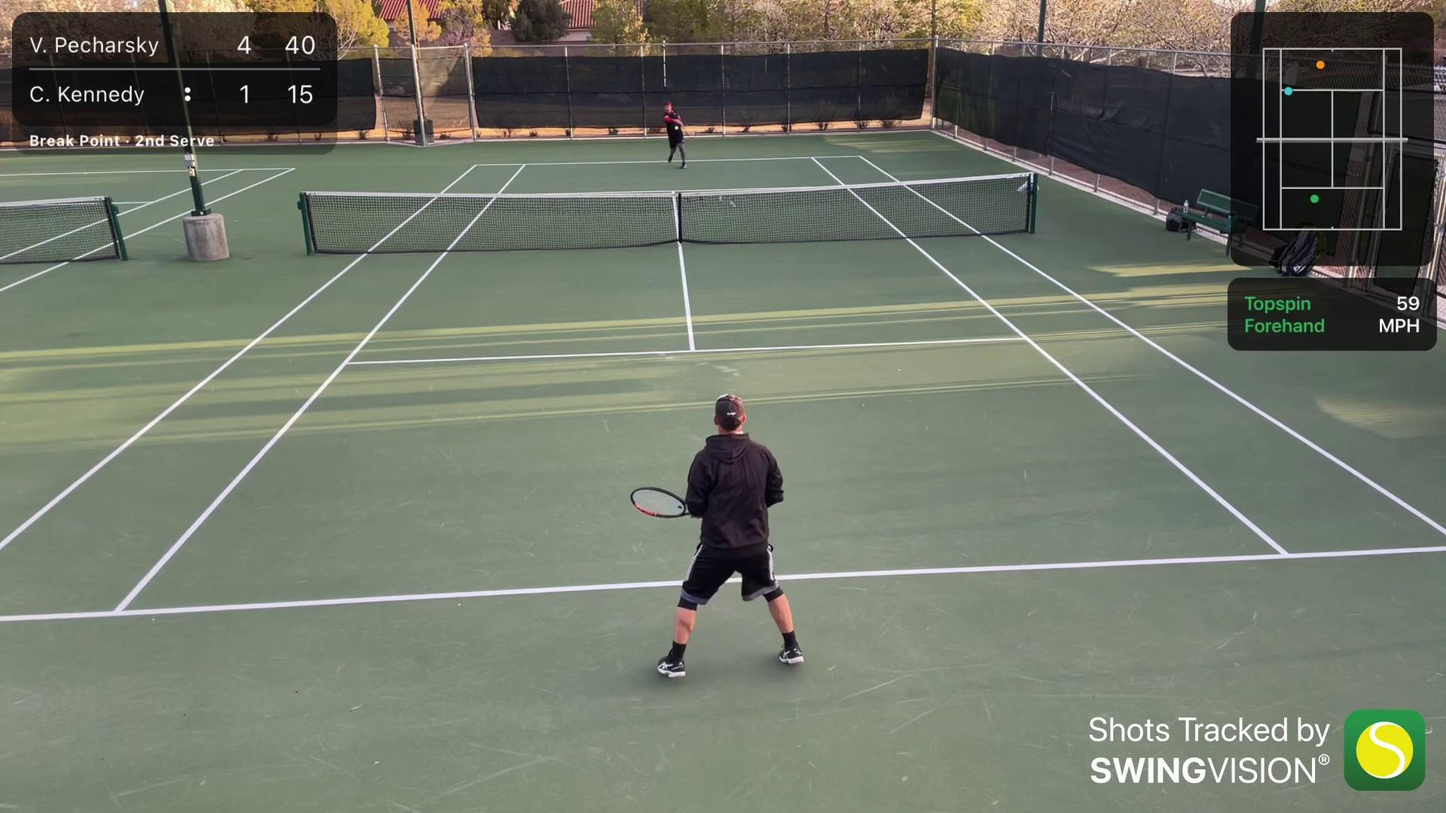ball: (674, 125, 679, 131)
